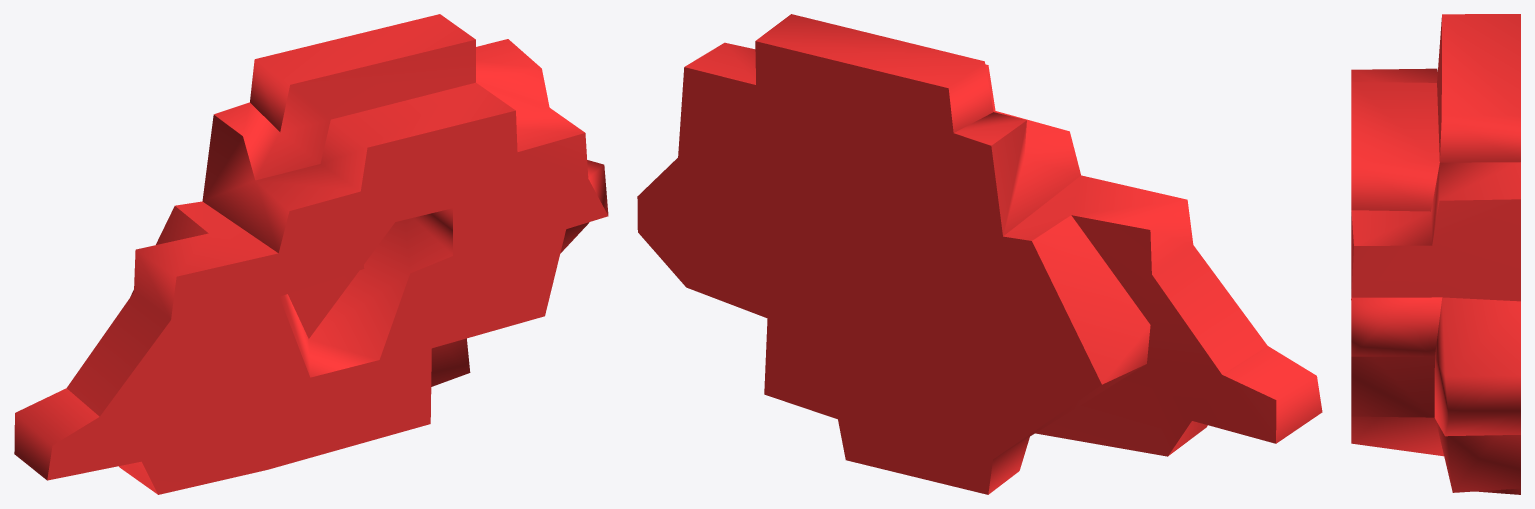
File: DBK_Brick_Prop_Small_D.fbx
3 renders of one model, left to right at view 1: azimuth 30°, elevation 25°; view 2: azimuth 150°, elevation 25°; view 3: azimuth 270°, elevation 25°, orthographic. The views are drawn at different scales.
Parts seen in each view (by area): view 1: DBK_Brick_Prop_Small_D; view 2: DBK_Brick_Prop_Small_D; view 3: DBK_Brick_Prop_Small_D.
Boxes of the visible parts, left/top/right/bottom form: DBK_Brick_Prop_Small_D: left=14, top=14, right=608, bottom=494; DBK_Brick_Prop_Small_D: left=637, top=14, right=1322, bottom=494; DBK_Brick_Prop_Small_D: left=1351, top=14, right=1520, bottom=494.
Size of the model in its own units: 89.36 by 55.54 by 20.
